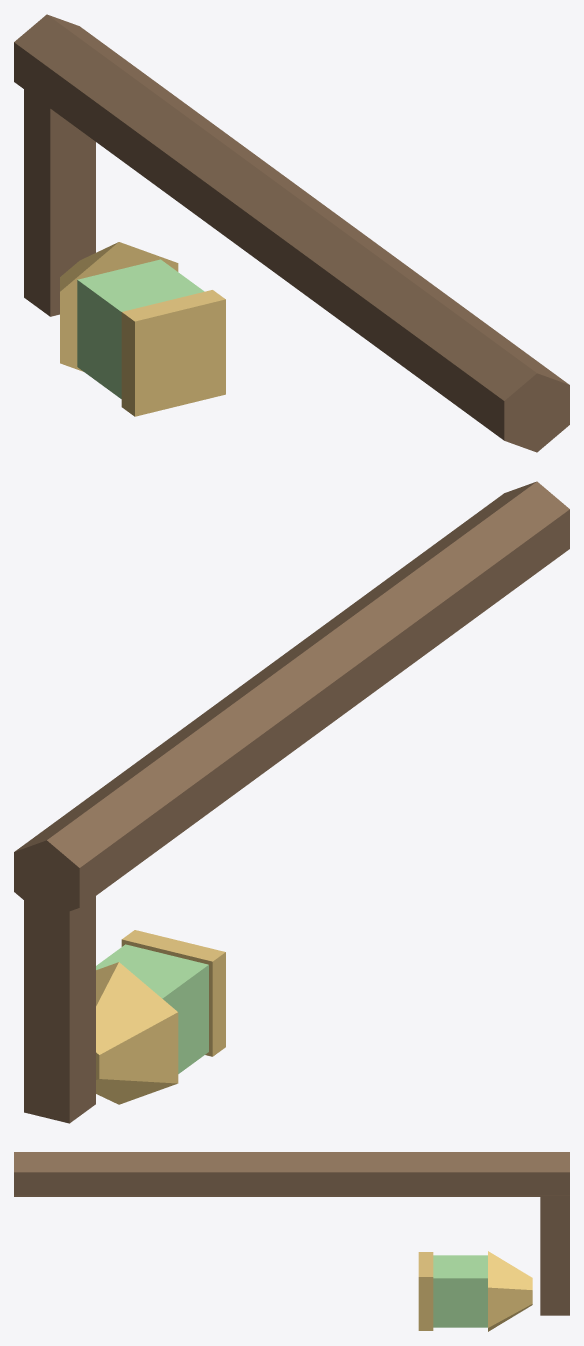
File: Lantern.fbx
The picture shows the model from 3 angles, top to bottom: view 1: azimuth 30°, elevation 25°; view 2: azimuth 150°, elevation 25°; view 3: azimuth 270°, elevation 25°; orthographic projection. The views are drawn at different scales.
Visible parts, largest first — view 1: fam_wood_dark, fam_gold, fam_slime_emit; view 2: fam_wood_dark, fam_gold, fam_slime_emit; view 3: fam_wood_dark, fam_slime_emit, fam_gold.
Boxes of the visible parts, x1=… form: fam_wood_dark: x1=14, y1=14, x2=569, y2=452; fam_gold: x1=60, y1=242, x2=225, y2=416; fam_slime_emit: x1=77, y1=259, x2=204, y2=398; fam_wood_dark: x1=14, y1=481, x2=569, y2=1123; fam_gold: x1=96, y1=930, x2=225, y2=1104; fam_slime_emit: x1=96, y1=944, x2=208, y2=1073; fam_wood_dark: x1=14, y1=1152, x2=569, y2=1315; fam_slime_emit: x1=433, y1=1255, x2=487, y2=1327; fam_gold: x1=418, y1=1251, x2=532, y2=1331.
Bounding box in the file's own units: 0.2728 × 0.7 × 1.96.
